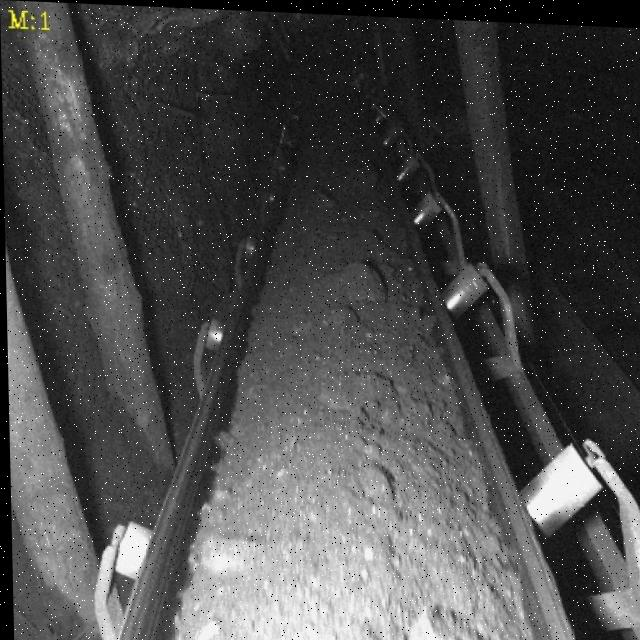large_sized_coal: (400, 595, 501, 640), (200, 534, 260, 577), (336, 258, 391, 301)
